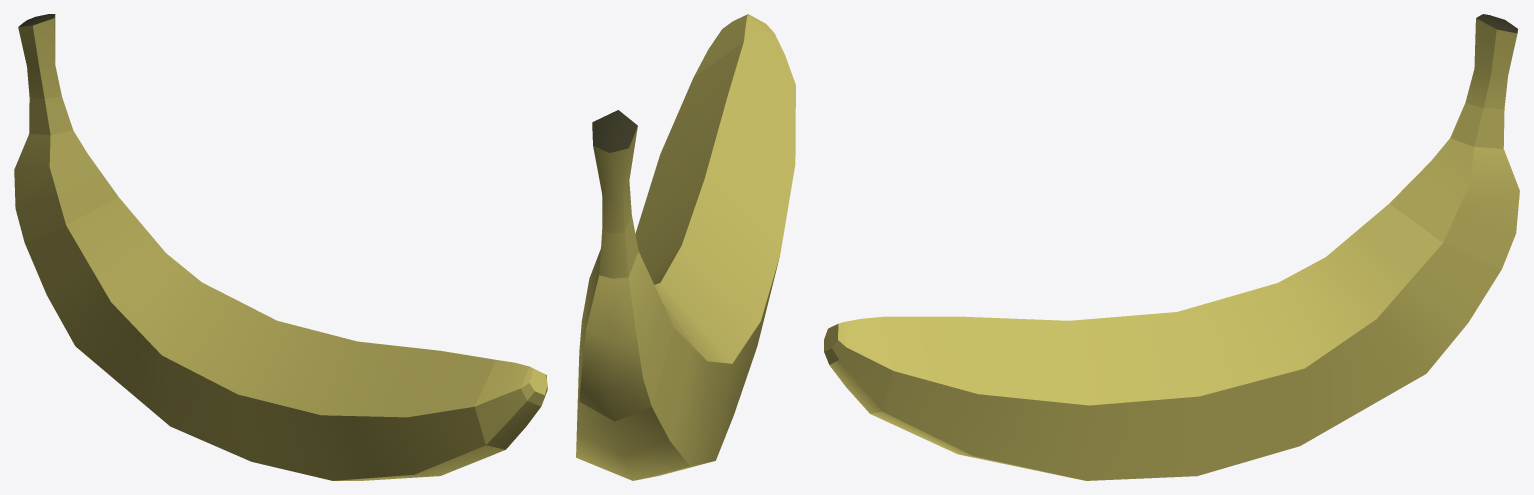
Rendered from banana.fbx.
3 renders of one model, left to right at view 1: azimuth 30°, elevation 25°; view 2: azimuth 150°, elevation 25°; view 3: azimuth 270°, elevation 25°, orthographic. The views are drawn at different scales.
Visible parts, largest first — view 1: banana; view 2: banana; view 3: banana.
Boxes of the visible parts, bbox=[...] form: banana: bbox=[14, 14, 547, 480]; banana: bbox=[576, 14, 795, 480]; banana: bbox=[824, 14, 1519, 480].
Bounding box in the file's own units: 32.66 × 48.45 × 75.58.
